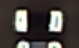COMP: (8, 4, 70, 38)
GAP: (14, 19, 61, 48)
